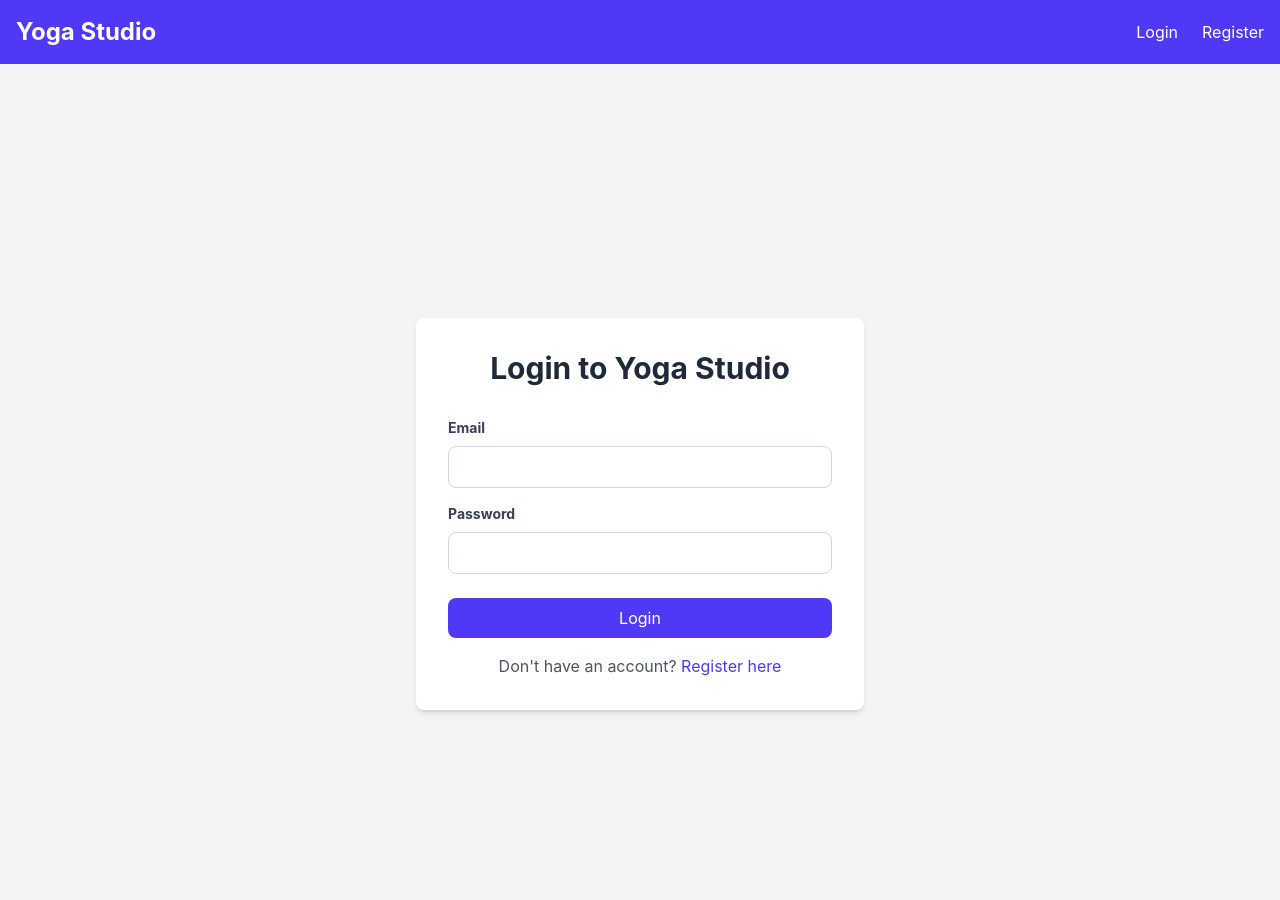
Test: Authentication Flow › should register new user and navigate to /sessions
Click the link "Register here": click(731, 666) [681,656,781,676]
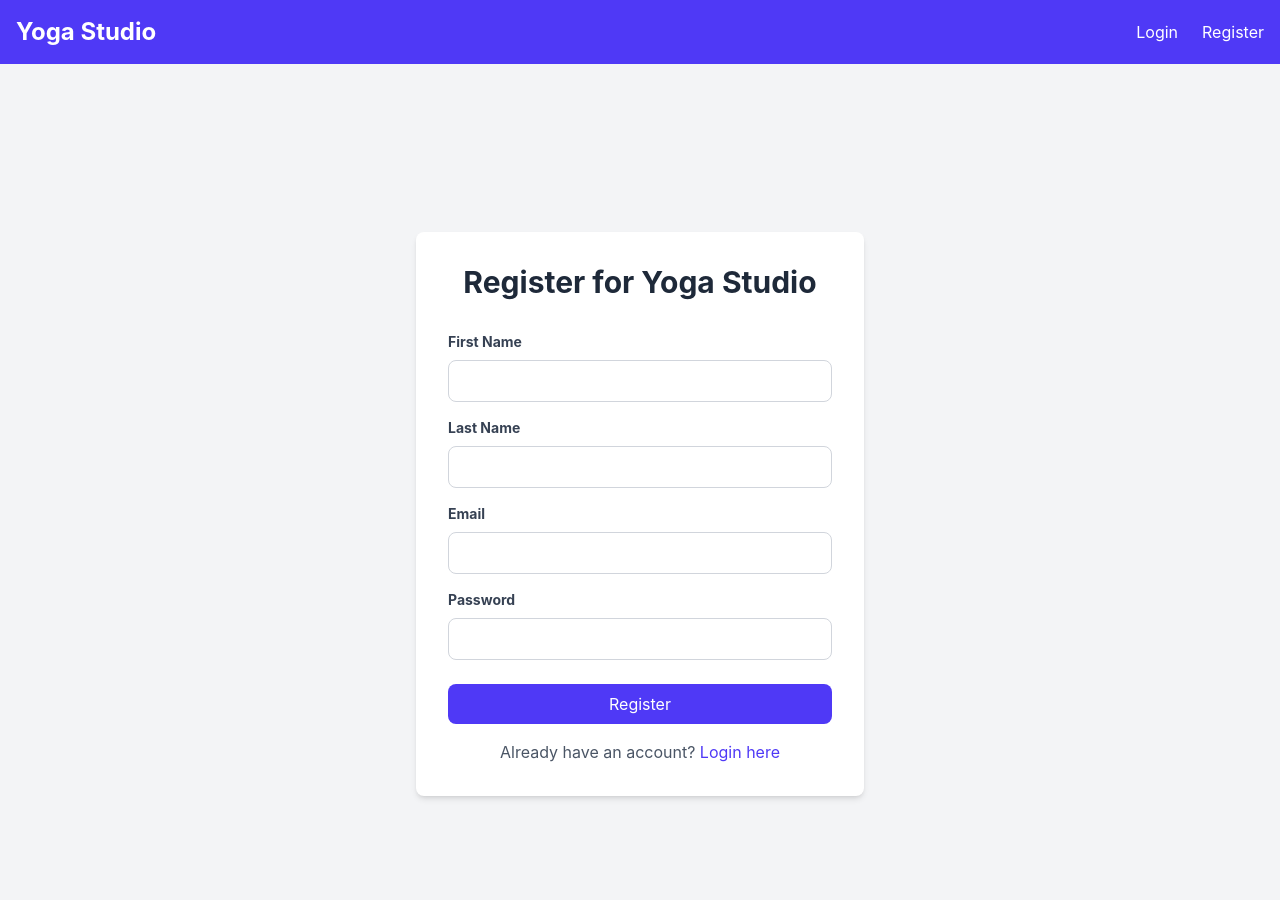
Result: the heading "Register for Yoga Studio" is shown at [448,264,832,300]
Result: the heading "Login to Yoga Studio" is gone
In the field labelled "First Name": (640, 381) [448,360,832,402], type "Benji"
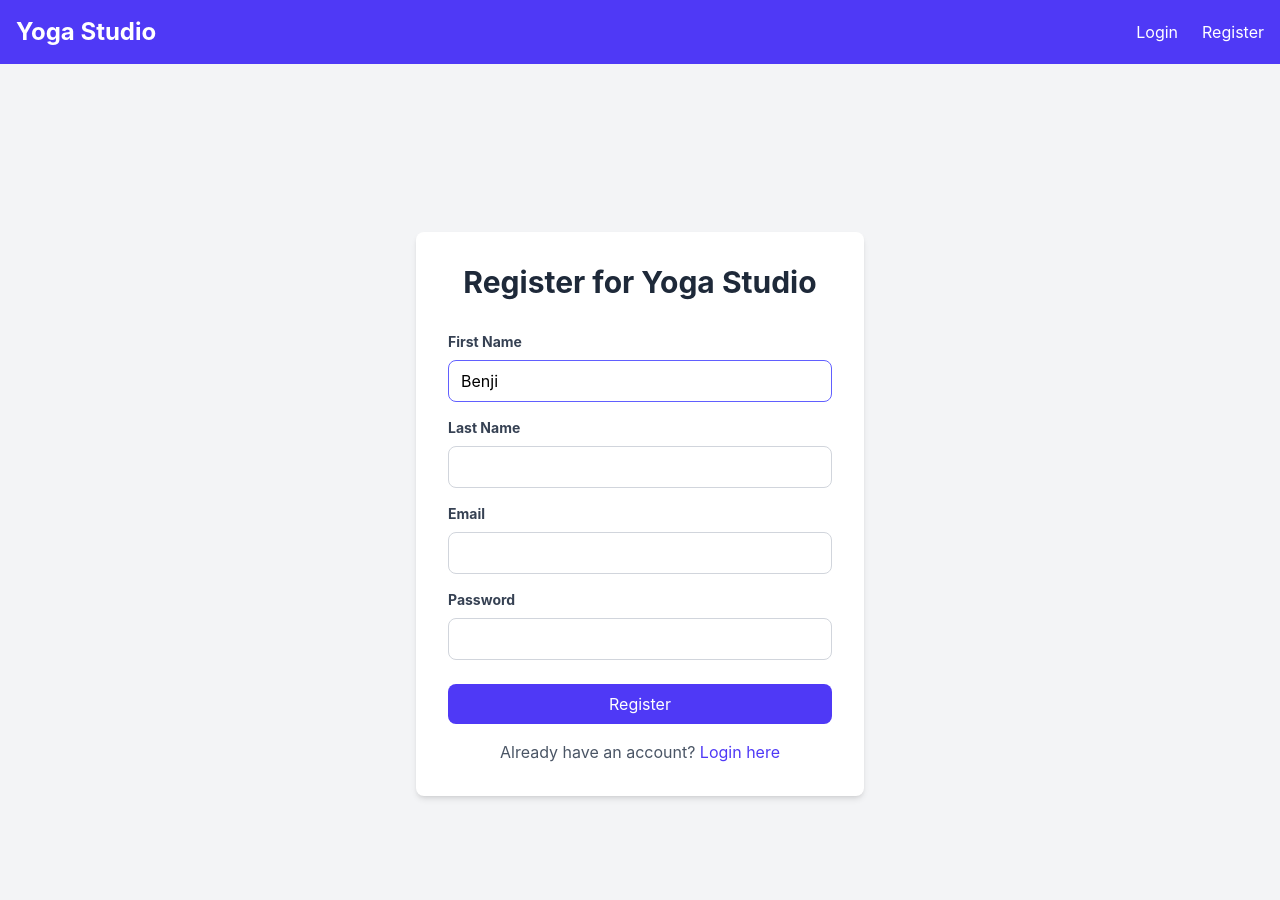
In the field labelled "Last Name": (640, 467) [448,446,832,488], type "Doe"
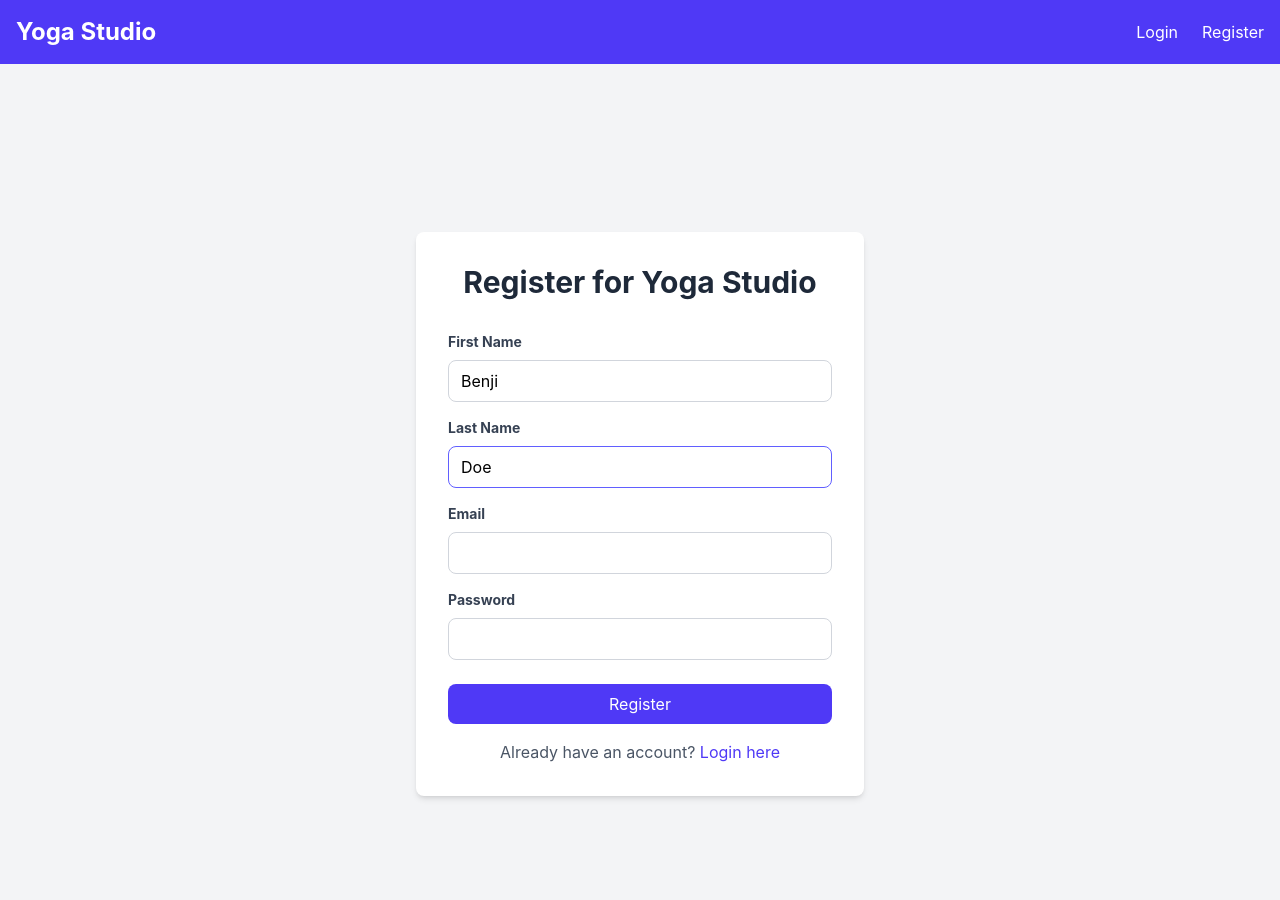
In the field labelled "Email": (640, 553) [448,532,832,574], type "studio@yoga.com"
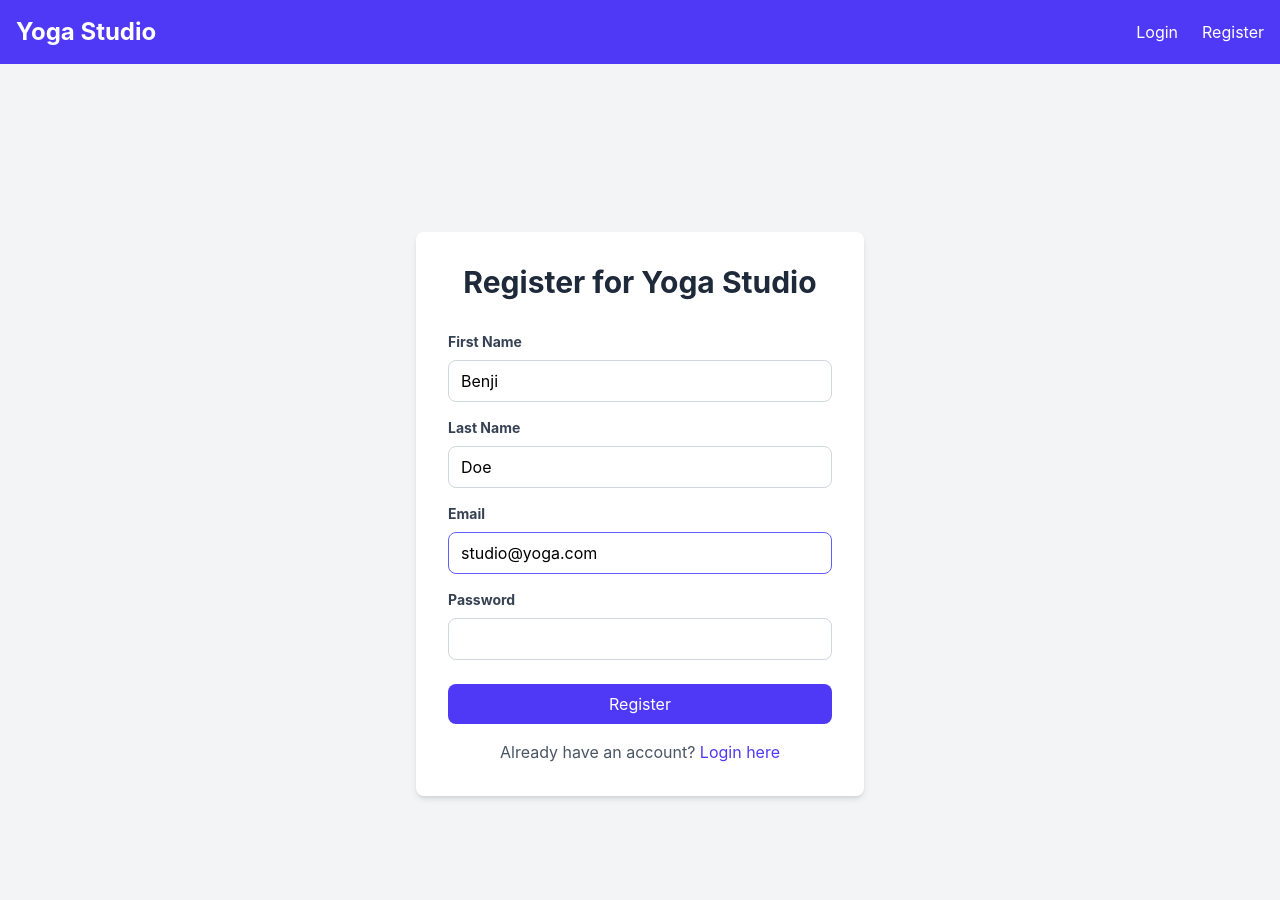
In the password field labelled "Password": (640, 639) [448,618,832,660], type "test!1234"
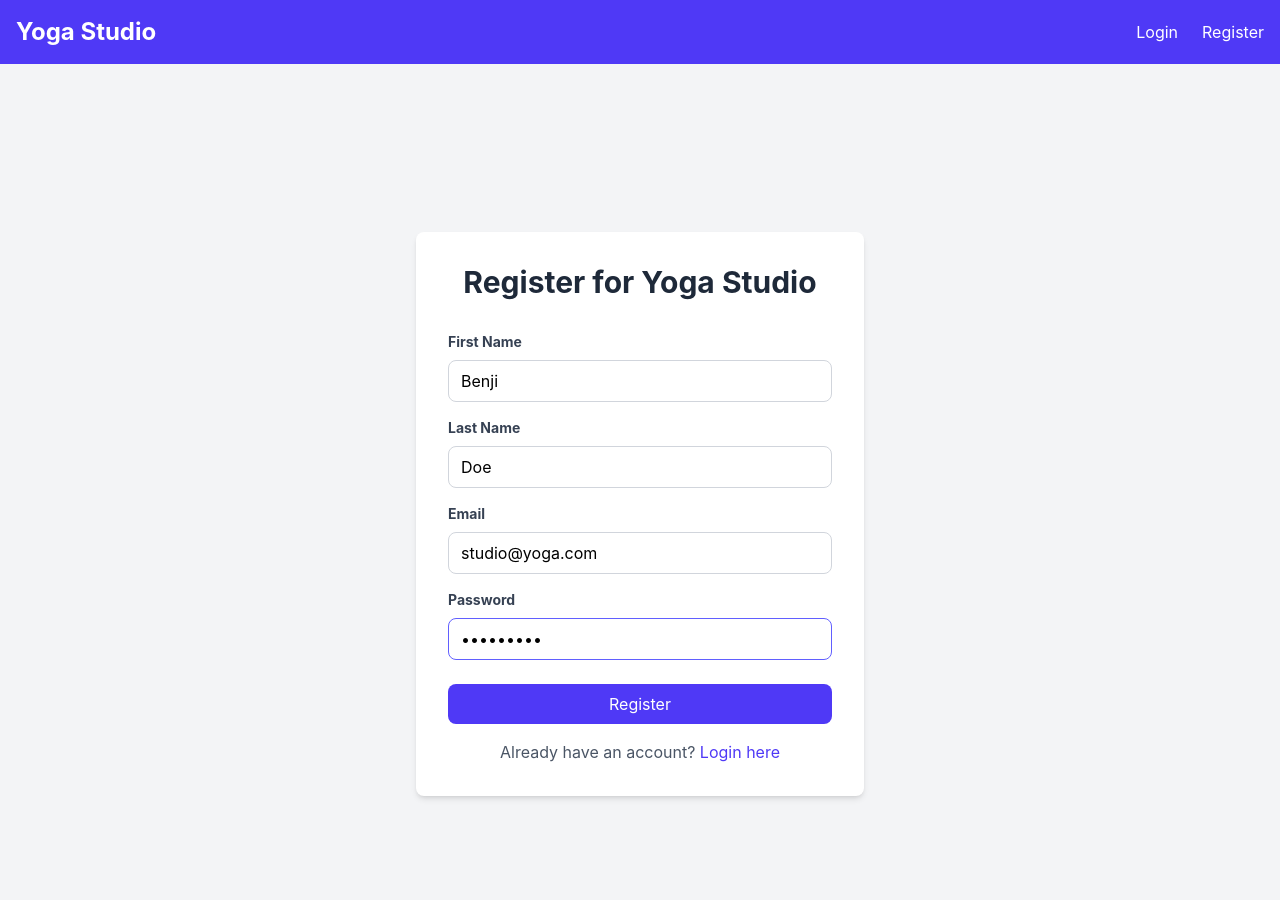
Click the button "Register": click(640, 704) [448,684,832,724]
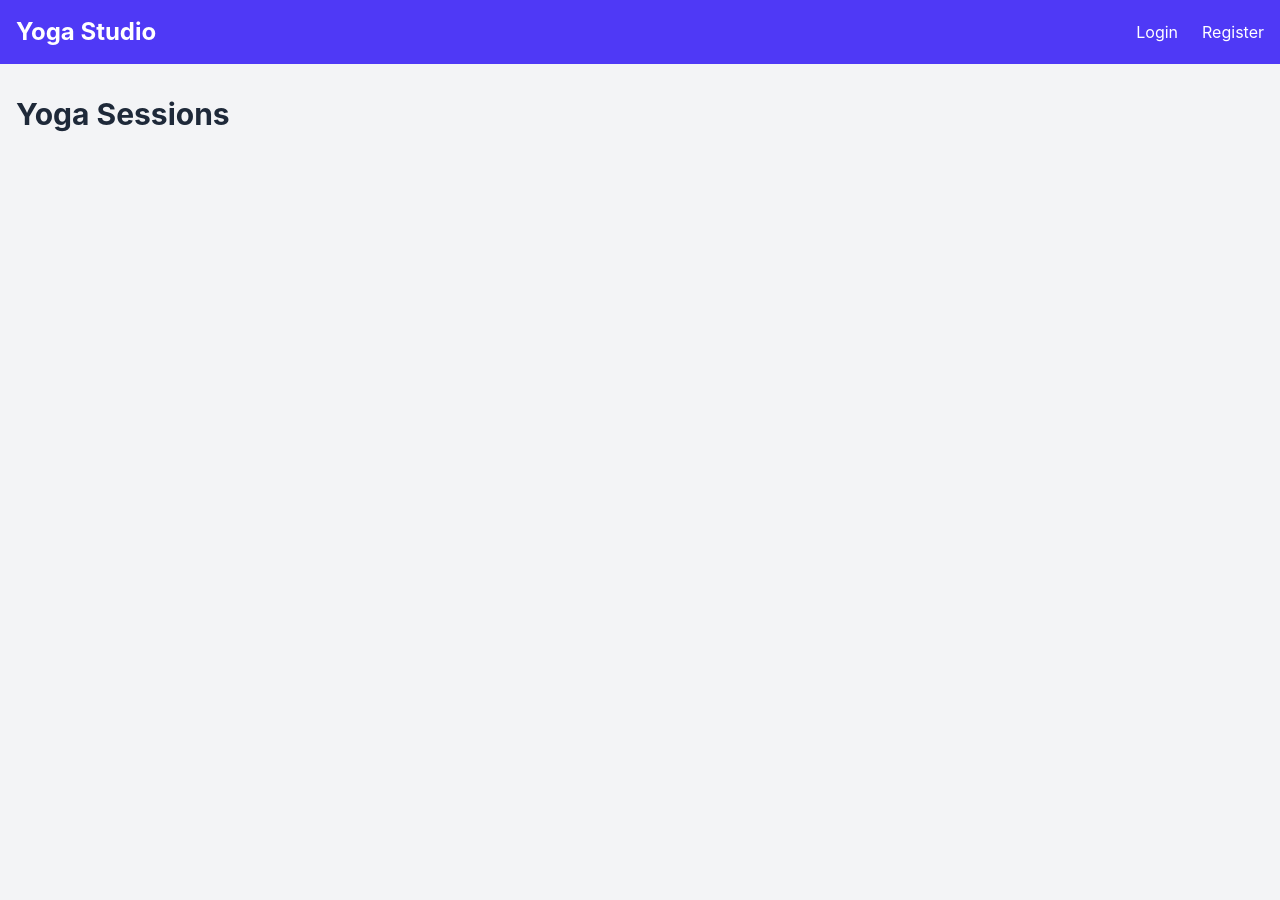
Expected: the heading labelled "Login to Yoga Studio" is not shown
Result: the heading "Yoga Sessions" is shown at [16,96,230,132]
